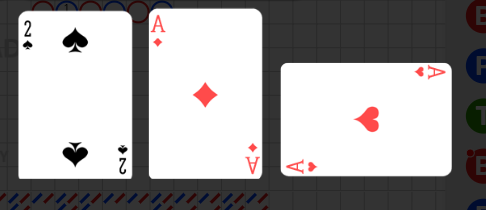2S: (116, 142, 129, 175)
AH: (285, 157, 320, 174), (411, 65, 447, 81)
